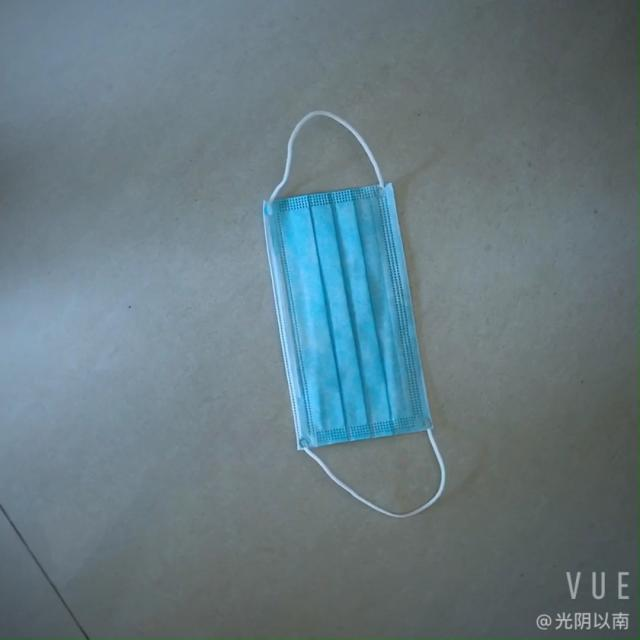non-organic waste: (236, 175, 446, 463)
